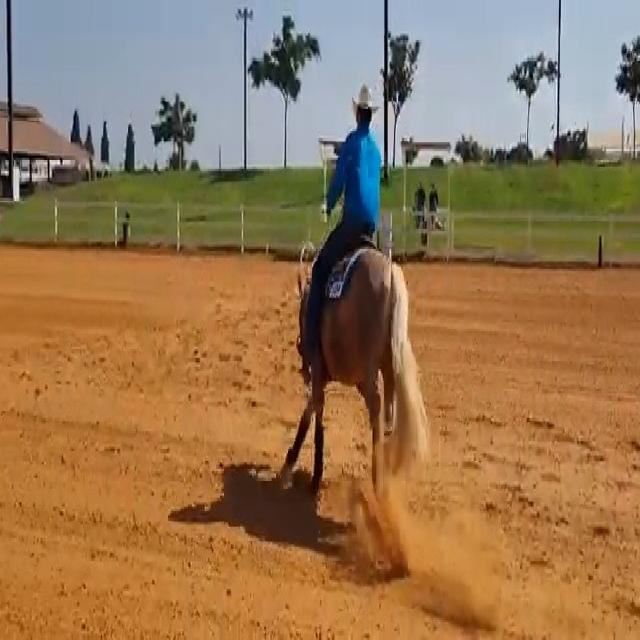horse: (278, 240, 429, 504)
